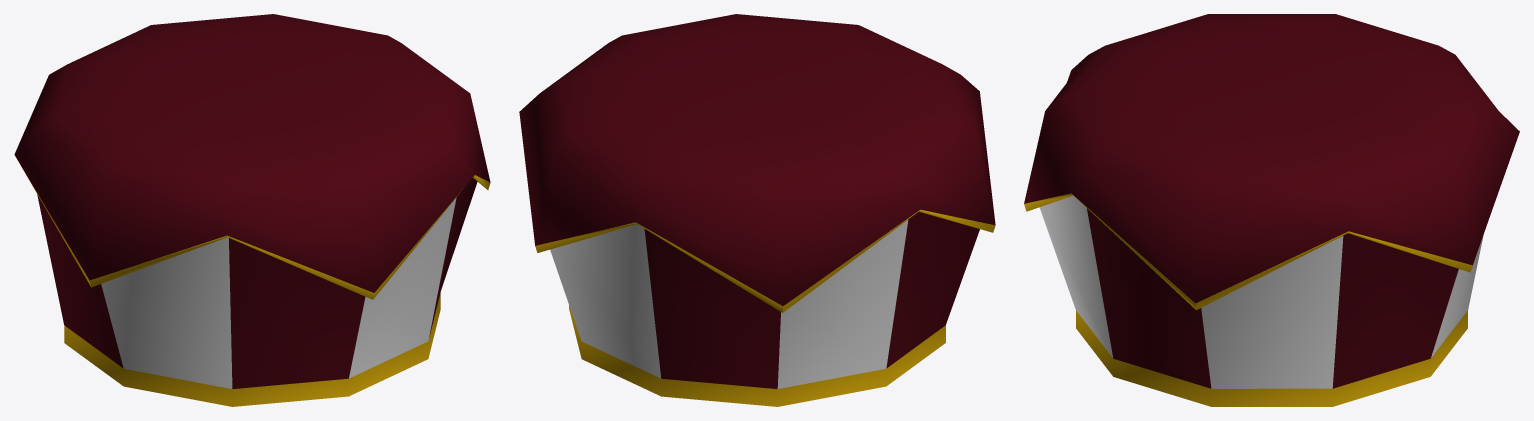
The model's file is Podio.fbx.
3 renders of one model, left to right at view 1: azimuth 30°, elevation 25°; view 2: azimuth 150°, elevation 25°; view 3: azimuth 270°, elevation 25°, orthographic.
Visible parts, largest first — view 1: Cylinder; view 2: Cylinder; view 3: Cylinder.
Part boxes in pixels (bbox=[...]): Cylinder: bbox=[14, 14, 490, 406]; Cylinder: bbox=[519, 14, 995, 406]; Cylinder: bbox=[1024, 14, 1519, 406].
Bounding box in the file's own units: 2056 × 1176 × 2161.
